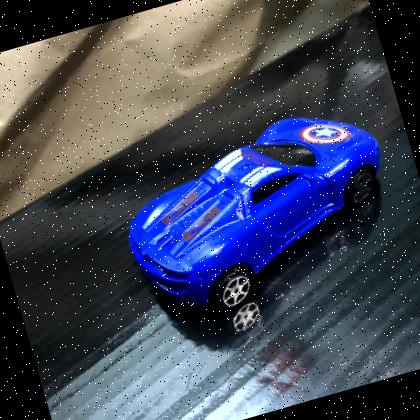Car: (128, 118, 381, 313)
